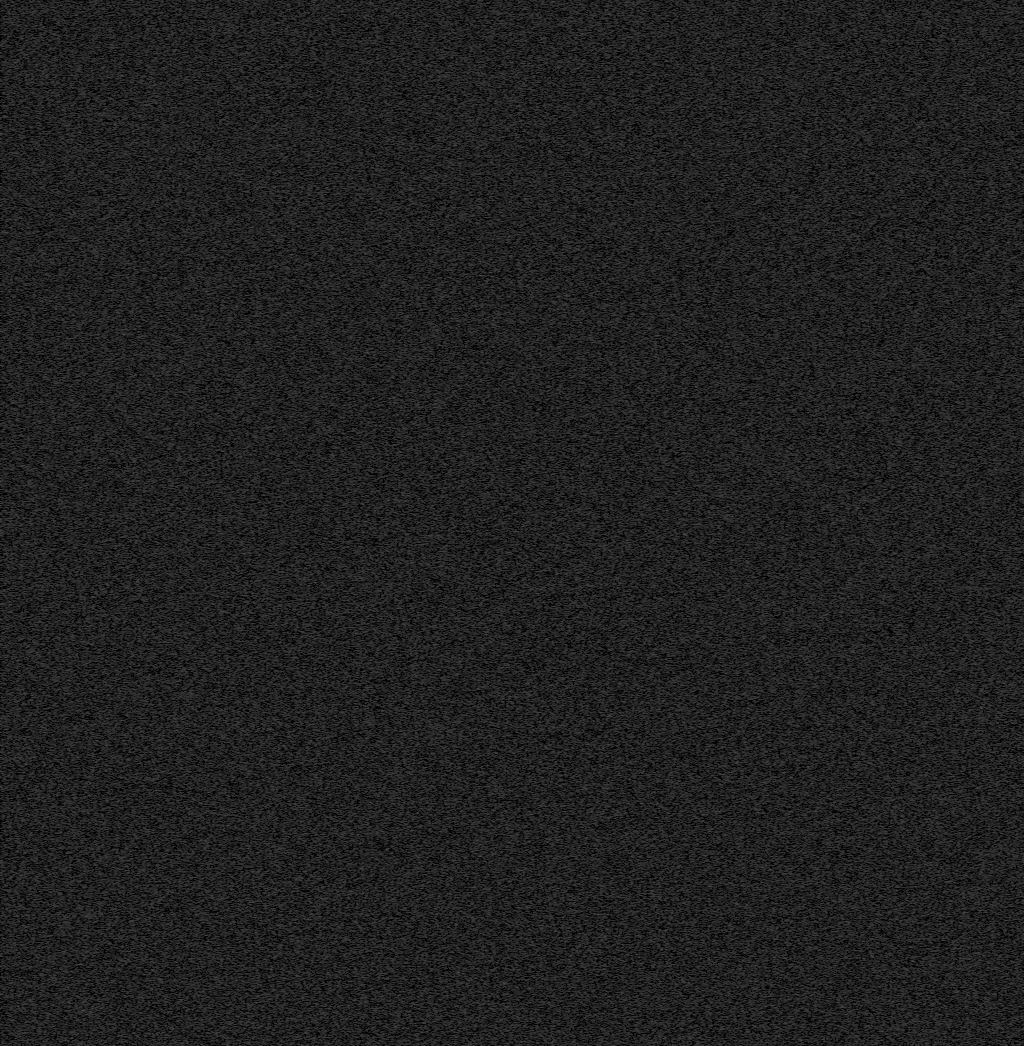wv_cw: (644, 0, 652, 1046), (609, 0, 617, 1046), (560, 0, 565, 1046)
wv_lsb: (431, 146, 436, 314), (430, 5, 436, 145), (431, 521, 436, 650), (430, 315, 436, 396), (431, 834, 436, 924), (431, 397, 436, 456), (431, 971, 436, 1020), (431, 773, 436, 821), (431, 925, 436, 964), (431, 707, 436, 745), (431, 457, 436, 492), (431, 651, 435, 693), (431, 493, 436, 520), (431, 755, 436, 772), (431, 1028, 436, 1040), (431, 694, 436, 706), (431, 822, 435, 833), (431, 746, 436, 754), (431, 1041, 436, 1046), (431, 1021, 435, 1027), (431, 965, 435, 970)
wv_usb: (565, 519, 571, 839), (565, 281, 571, 518), (565, 9, 571, 184), (565, 840, 571, 974), (626, 767, 631, 865), (627, 866, 631, 935), (565, 975, 571, 1018), (566, 221, 571, 258), (566, 185, 571, 220), (626, 469, 631, 500), (627, 936, 631, 969), (566, 259, 571, 280), (627, 121, 631, 144), (565, 1033, 571, 1046), (627, 524, 631, 540), (627, 27, 631, 40), (627, 675, 631, 687), (627, 541, 631, 553), (627, 212, 631, 224), (627, 41, 631, 53), (627, 734, 631, 745), (627, 970, 631, 980), (627, 749, 631, 759), (627, 84, 631, 94), (627, 54, 631, 64), (627, 706, 631, 715), (627, 693, 631, 702), (627, 9, 631, 18), (627, 101, 630, 112), (627, 515, 631, 523), (627, 75, 631, 83), (627, 19, 631, 26), (627, 575, 630, 584), (627, 989, 631, 995), (627, 716, 630, 724), (627, 609, 631, 615), (627, 560, 631, 566), (627, 503, 631, 509), (627, 996, 631, 1001), (627, 728, 631, 733), (627, 200, 631, 205), (627, 649, 630, 655), (627, 155, 630, 161), (627, 984, 631, 988), (627, 568, 631, 572), (627, 299, 631, 303), (627, 254, 631, 258), (627, 240, 631, 244), (627, 225, 631, 229), (627, 1002, 630, 1007), (627, 337, 630, 342), (627, 271, 630, 276), (627, 192, 630, 197), (627, 95, 630, 100), (627, 1016, 630, 1020), (627, 1009, 630, 1013), (627, 688, 630, 692), (627, 555, 631, 558), (627, 262, 630, 266), (628, 187, 631, 191), (627, 71, 631, 74), (627, 323, 630, 326)
wv_wbfm: (226, 0, 255, 1046)
